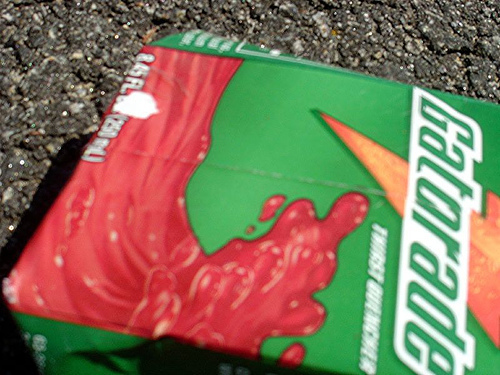litter: (2, 31, 498, 373)
